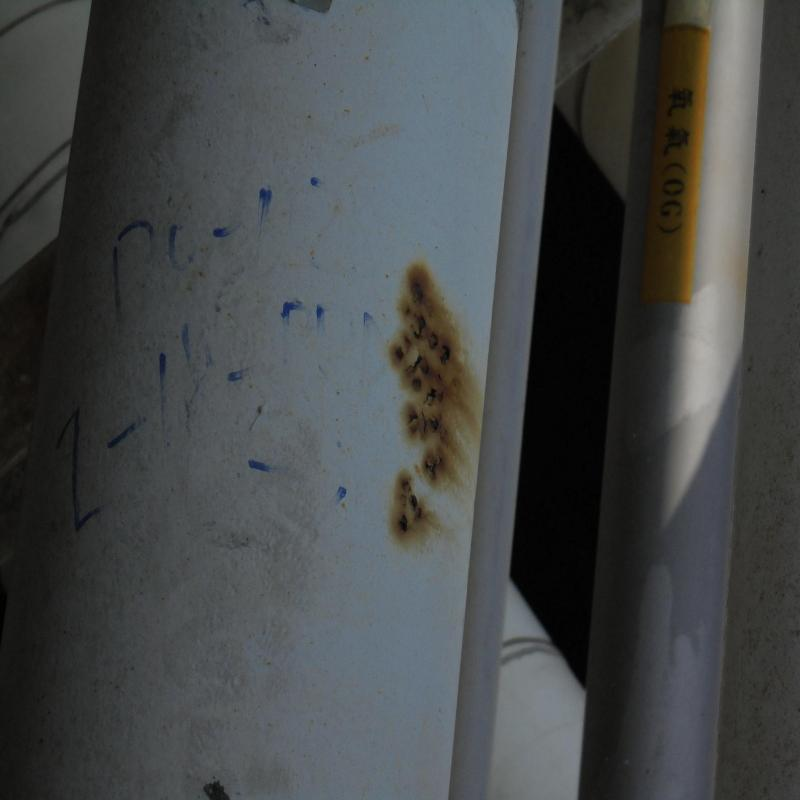corrosion: (395, 272, 460, 540)
